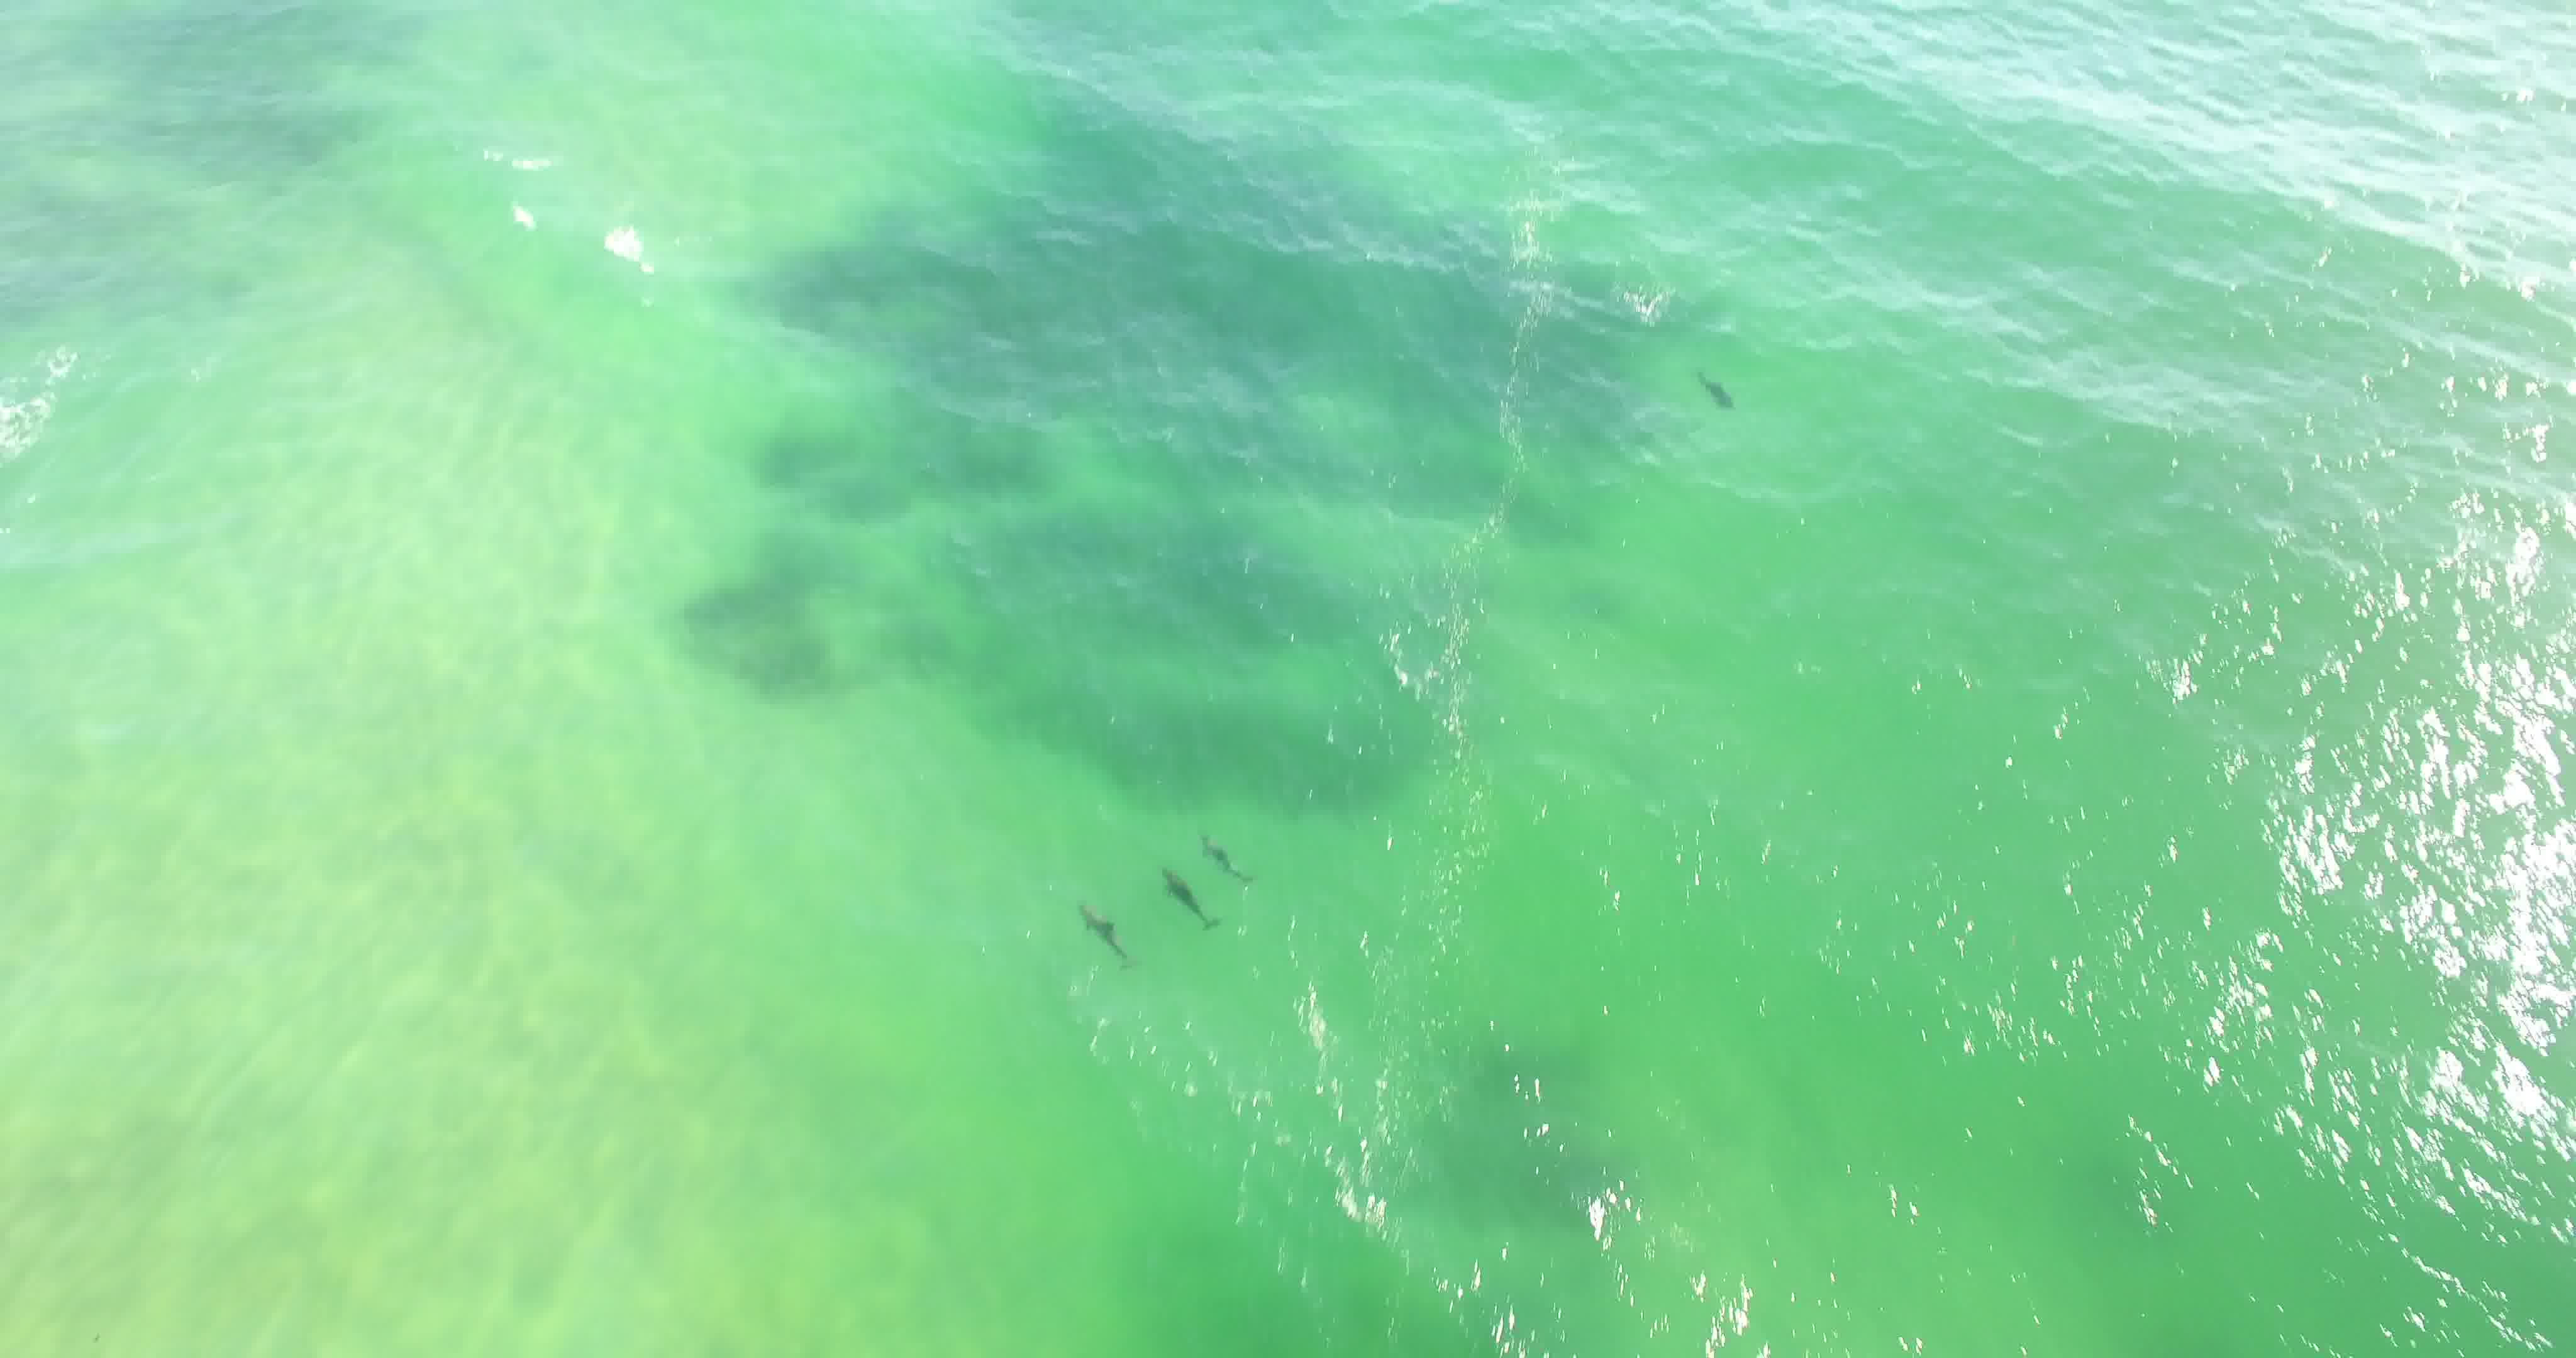dolphin: (1043, 881, 1145, 970), (1128, 845, 1225, 929), (1184, 814, 1257, 893), (1678, 348, 1741, 424)
